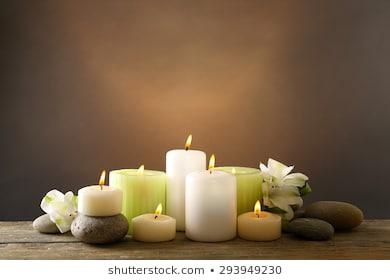fire: (97, 166, 110, 189), (181, 129, 193, 151), (206, 151, 217, 172), (251, 197, 262, 216), (152, 200, 163, 217)
